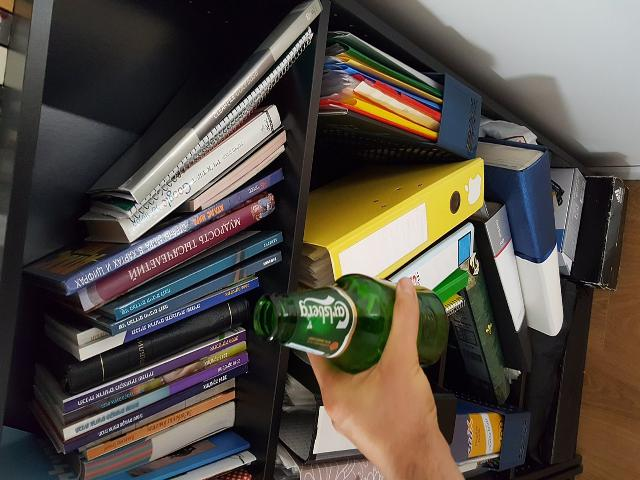beer: (254, 275, 450, 370)
